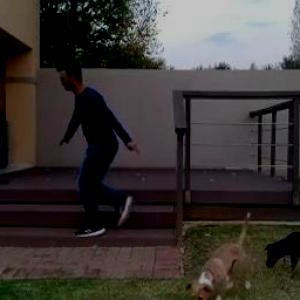land: (49, 50, 186, 250)
